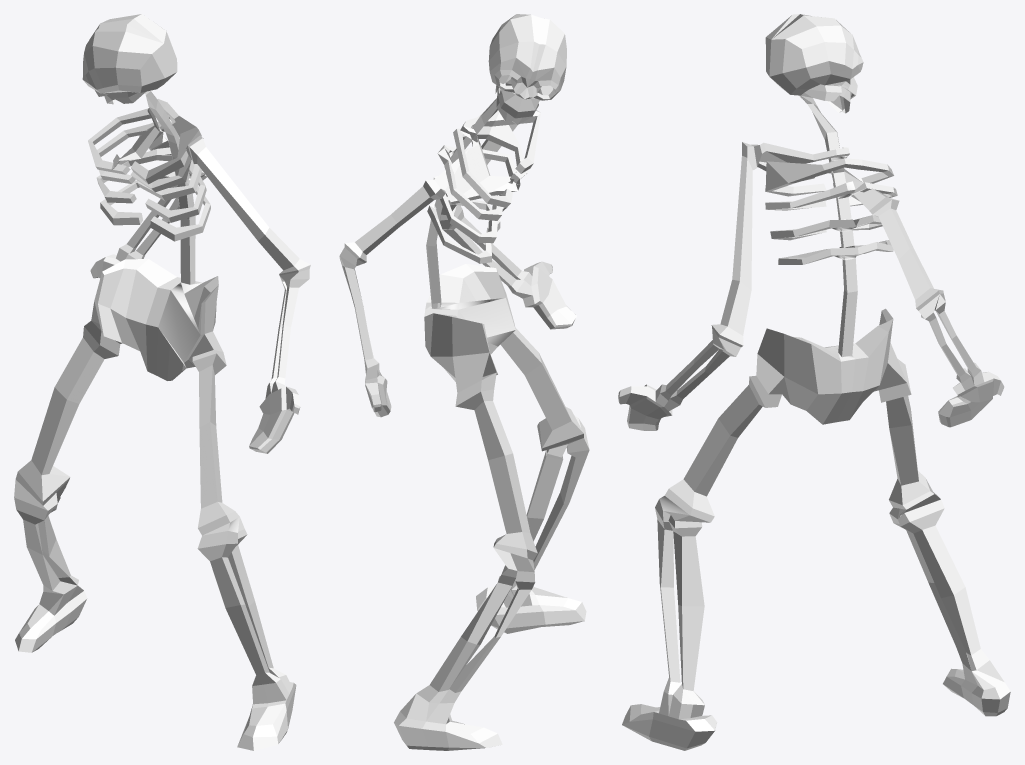
File: SkeletonIdle(65).obj
3 renders of one model, left to right at view 1: azimuth 30°, elevation 25°; view 2: azimuth 150°, elevation 25°; view 3: azimuth 270°, elevation 25°, orthographic. The views are drawn at different scales.
Parts seen in each view (by area): view 1: Object002; view 2: Object002; view 3: Object002.
Part boxes in pixels (bbox=[...]): Object002: bbox=[14, 14, 310, 750]; Object002: bbox=[339, 14, 589, 750]; Object002: bbox=[618, 14, 1010, 750].
Size of the model in its own units: 343 by 1128 by 583.
